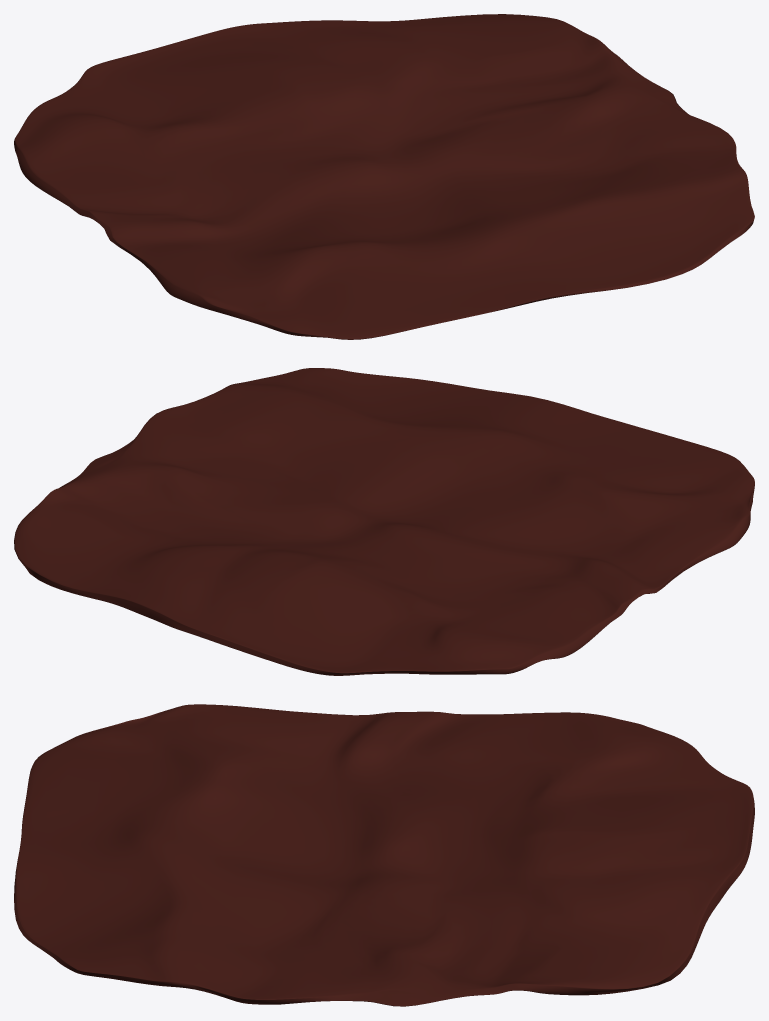
Rendered from ground 1.fbx.
The picture shows the model from 3 angles, top to bottom: view 1: azimuth 30°, elevation 25°; view 2: azimuth 150°, elevation 25°; view 3: azimuth 270°, elevation 25°; orthographic projection. The views are drawn at different scales.
Parts seen in each view (by area): view 1: Box3588; view 2: Box3588; view 3: Box3588.
Boxes of the visible parts, <box> form: Box3588: <box>14,14,754,339</box>; Box3588: <box>14,368,754,675</box>; Box3588: <box>14,704,754,1006</box>.
Bounding box in the file's own units: 543 × 32.76 × 568.
